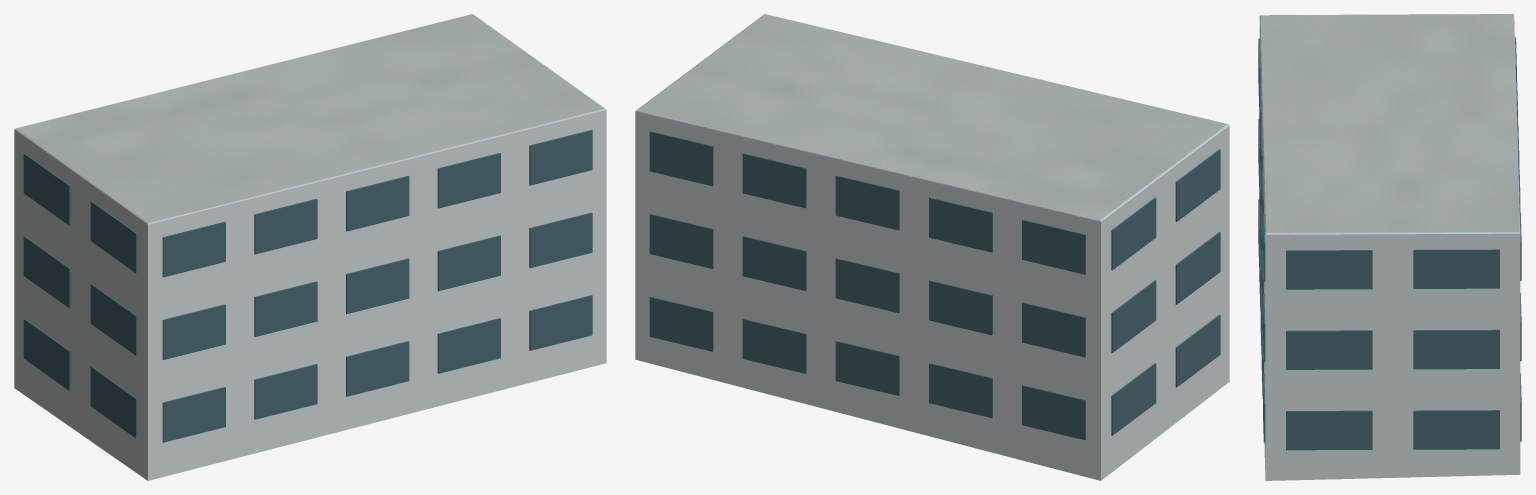
The model's file is fragments.glb.
3 views of the same model, side by side, from view 1: azimuth 30°, elevation 25°; view 2: azimuth 150°, elevation 25°; view 3: azimuth 270°, elevation 25° (orthographic). The views are drawn at different scales.
Visible parts, largest first — view 1: SM_osm-576358734_Fragment_033, SM_osm-576358734_Fragment_013, SM_osm-576358734_Fragment_020, SM_osm-576358734_Fragment_014, SM_osm-576358734_Fragment_029, SM_osm-576358734_Fragment_038, SM_osm-576358734_Fragment_037, SM_osm-576358734_Fragment_008, SM_osm-576358734_Fragment_032, SM_osm-576358734_Fragment_057, SM_osm-576358734_Fragment_006, SM_osm-576358734_Fragment_034 (+26 smaller); view 2: SM_osm-576358734_Fragment_010, SM_osm-576358734_Fragment_048, SM_osm-576358734_Fragment_026, SM_osm-576358734_Fragment_012, SM_osm-576358734_Fragment_016, SM_osm-576358734_Fragment_056, SM_osm-576358734_Fragment_030, SM_osm-576358734_Fragment_009, SM_osm-576358734_Fragment_043, SM_osm-576358734_Fragment_042, SM_osm-576358734_Fragment_018, SM_osm-576358734_Fragment_055 (+28 smaller); view 3: SM_osm-576358734_Fragment_001, SM_osm-576358734_Fragment_018, SM_osm-576358734_Fragment_030, SM_osm-576358734_Fragment_036, SM_osm-576358734_Fragment_038, SM_osm-576358734_Fragment_027, SM_osm-576358734_Fragment_005, SM_osm-576358734_Fragment_002, SM_osm-576358734_Fragment_035, SM_osm-576358734_Fragment_034, SM_osm-576358734_Fragment_053, SM_osm-576358734_Fragment_022 (+14 smaller).
Part boxes in pixels (x1,y1,x2,y2): SM_osm-576358734_Fragment_033: (90, 248, 230, 359); SM_osm-576358734_Fragment_013: (283, 141, 409, 266); SM_osm-576358734_Fragment_020: (204, 256, 317, 394); SM_osm-576358734_Fragment_014: (162, 166, 279, 283); SM_osm-576358734_Fragment_029: (346, 295, 464, 426); SM_osm-576358734_Fragment_038: (529, 207, 606, 350); SM_osm-576358734_Fragment_037: (308, 237, 424, 353); SM_osm-576358734_Fragment_008: (437, 282, 570, 399); SM_osm-576358734_Fragment_032: (111, 376, 254, 480); SM_osm-576358734_Fragment_057: (398, 153, 525, 282); SM_osm-576358734_Fragment_006: (90, 335, 213, 441); SM_osm-576358734_Fragment_034: (166, 136, 317, 258); SM_osm-576358734_Fragment_010: (929, 159, 1085, 306); SM_osm-576358734_Fragment_048: (929, 280, 1085, 394); SM_osm-576358734_Fragment_026: (835, 137, 994, 264); SM_osm-576358734_Fragment_012: (826, 243, 942, 369); SM_osm-576358734_Fragment_016: (701, 100, 849, 208); SM_osm-576358734_Fragment_056: (1034, 176, 1156, 302); SM_osm-576358734_Fragment_030: (635, 69, 767, 186); SM_osm-576358734_Fragment_009: (883, 337, 992, 446); SM_osm-576358734_Fragment_043: (773, 128, 884, 264); SM_osm-576358734_Fragment_042: (785, 325, 899, 423); SM_osm-576358734_Fragment_018: (635, 141, 713, 282); SM_osm-576358734_Fragment_055: (742, 234, 832, 333); SM_osm-576358734_Fragment_001: (1377, 372, 1503, 477); SM_osm-576358734_Fragment_018: (1413, 263, 1521, 396); SM_osm-576358734_Fragment_030: (1406, 190, 1521, 288); SM_osm-576358734_Fragment_036: (1263, 213, 1372, 332); SM_osm-576358734_Fragment_038: (1263, 294, 1372, 452); SM_osm-576358734_Fragment_027: (1265, 401, 1395, 480); SM_osm-576358734_Fragment_005: (1334, 227, 1444, 345); SM_osm-576358734_Fragment_002: (1333, 77, 1455, 140); SM_osm-576358734_Fragment_035: (1262, 120, 1380, 175); SM_osm-576358734_Fragment_034: (1259, 50, 1405, 150); SM_osm-576358734_Fragment_053: (1289, 190, 1408, 250); SM_osm-576358734_Fragment_022: (1325, 148, 1435, 201).
Size of the model in its own units: 2.2 by 1.17 by 1.11.
Materials: 5 (1 with a texture image).
